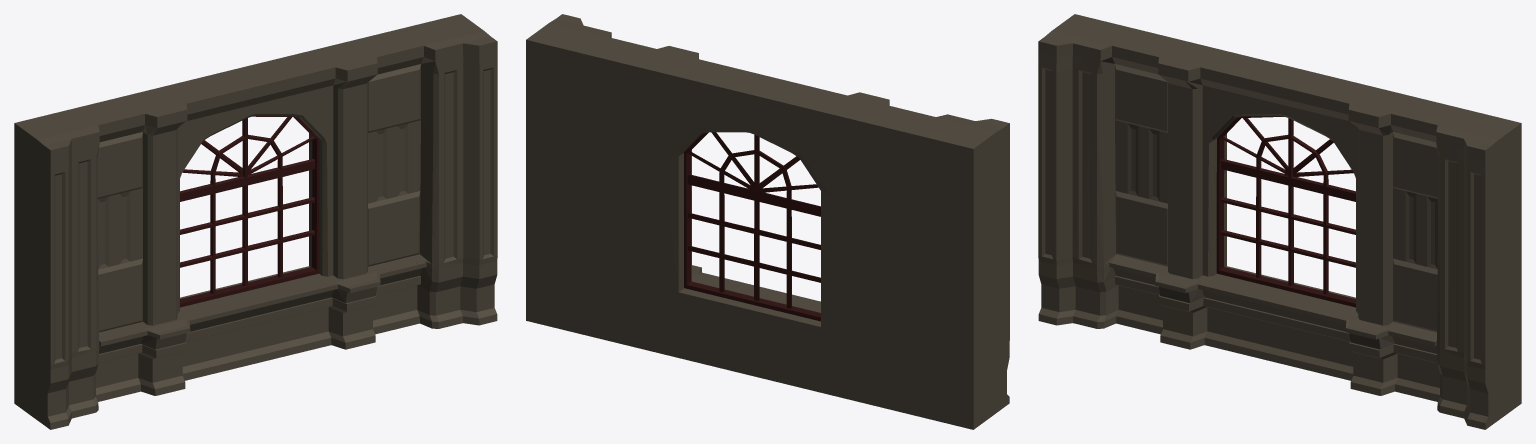
File: P_facadeDETAIL2sansVitre.FBX
3 views of the same model, side by side, from view 1: azimuth 30°, elevation 25°; view 2: azimuth 150°, elevation 25°; view 3: azimuth 330°, elevation 25° (orthographic).
Visible parts, largest first — view 1: Box099; view 2: Box099; view 3: Box099.
Part boxes in pixels (x1,y1,x2,y2): Box099: (14,14,497,429); Box099: (526,14,1009,429); Box099: (1038,14,1521,429).
Size of the model in its own units: 500 by 300 by 70.5.
